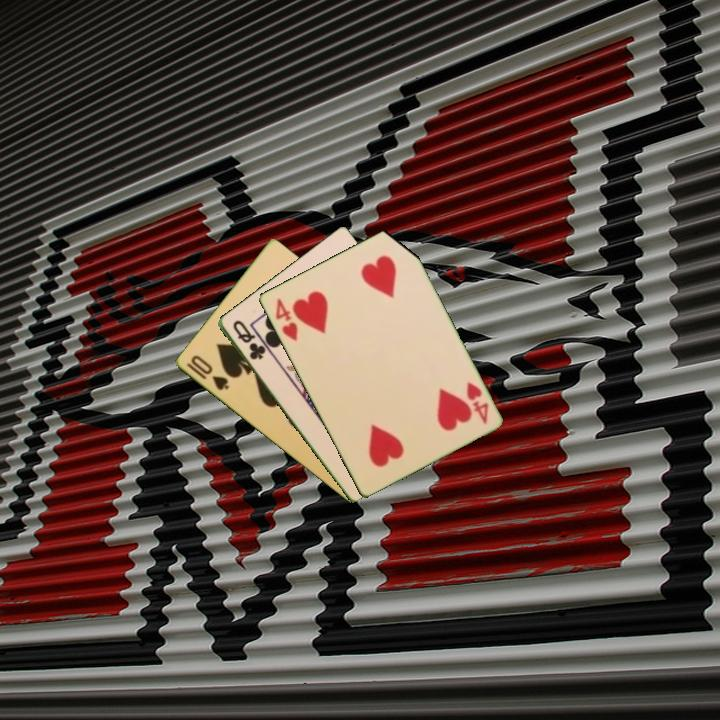10s: (183, 351, 231, 393)
4h: (271, 294, 300, 344), (462, 378, 491, 427)
Qc: (229, 316, 268, 363)
